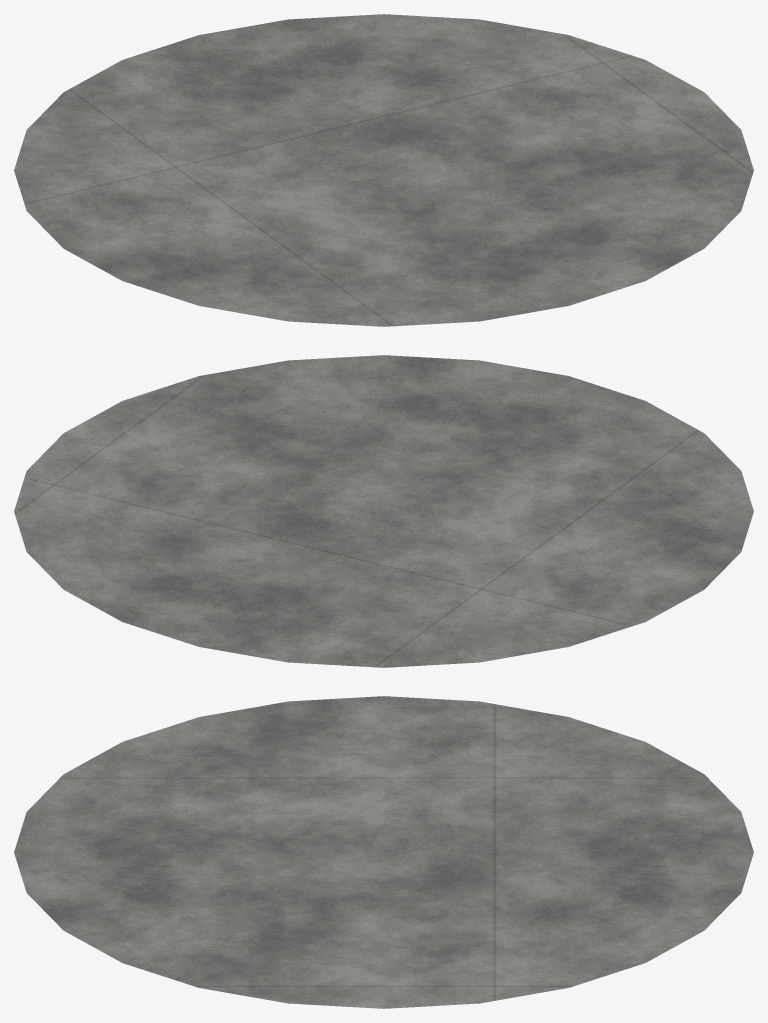
Rendered from INT-J-014.obj.
The picture shows the model from 3 angles, top to bottom: view 1: azimuth 30°, elevation 25°; view 2: azimuth 150°, elevation 25°; view 3: azimuth 270°, elevation 25°; orthographic projection.
Parts seen in each view (by area): view 1: INT-J-014; view 2: INT-J-014; view 3: INT-J-014.
Part boxes in pixels (x1,y1,x2,y2): INT-J-014: (14,14,753,326); INT-J-014: (14,355,753,667); INT-J-014: (14,696,753,1008).
Bounding box in the file's own units: 6 × 0 × 6.
Materials: 1 (1 with a texture image).
